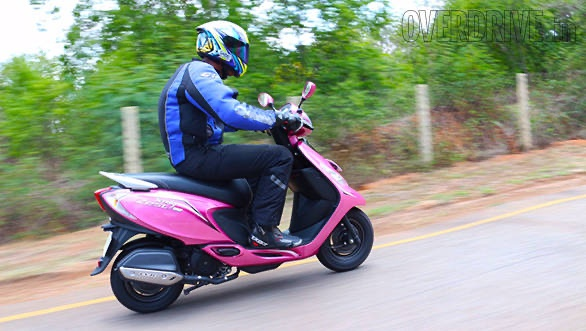helmet: (195, 19, 253, 79)
